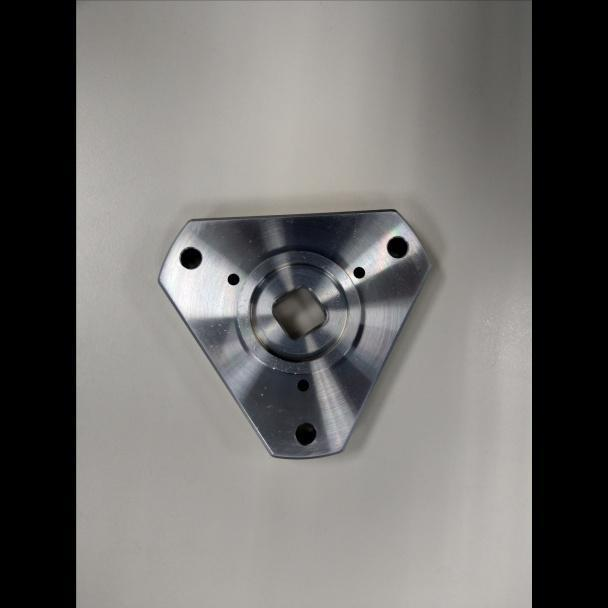hole: (292, 420, 319, 448), (176, 244, 203, 271), (384, 234, 410, 260), (225, 271, 241, 287), (295, 377, 310, 393), (350, 265, 366, 280)
